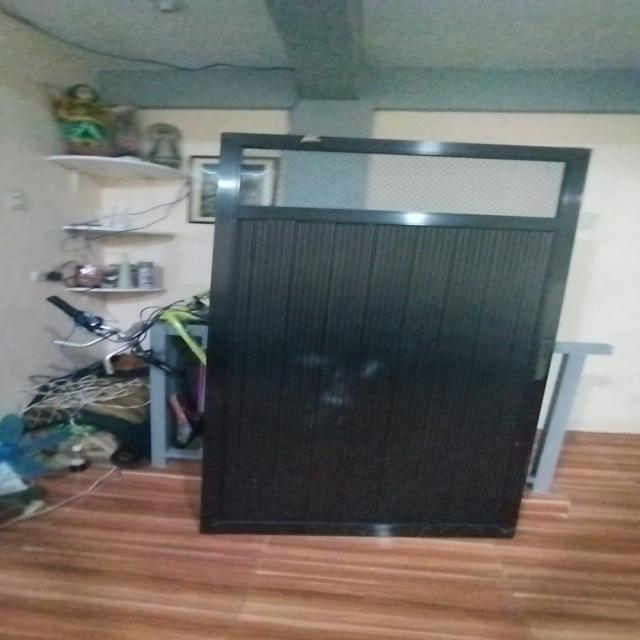door: (197, 125, 598, 548)
